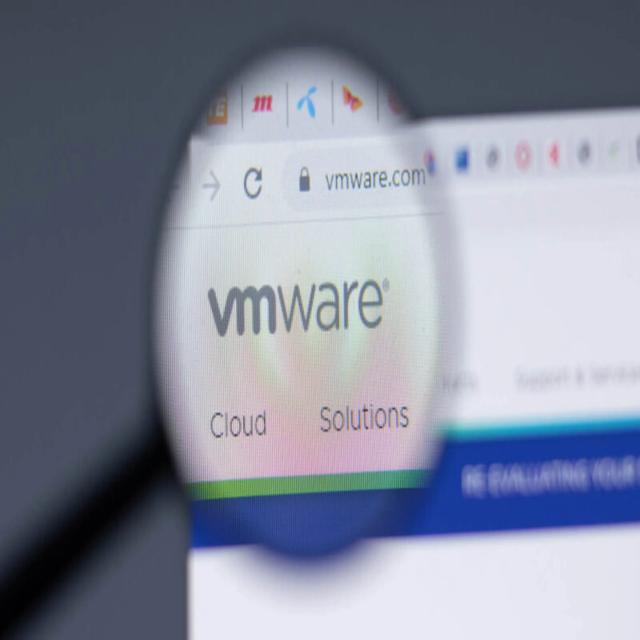vmware: (207, 284, 276, 336)
